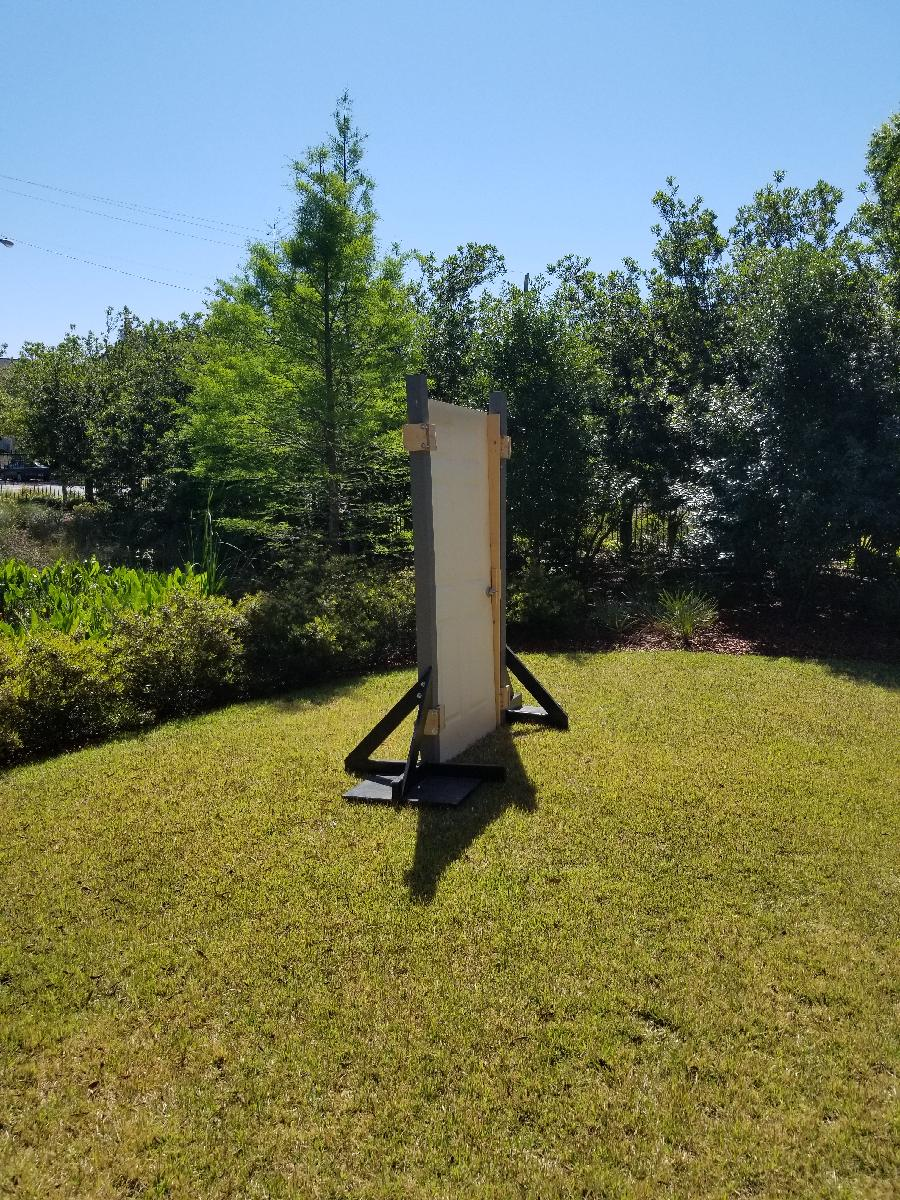door: (424, 397, 500, 770)
doorHandle: (487, 580, 500, 601)
